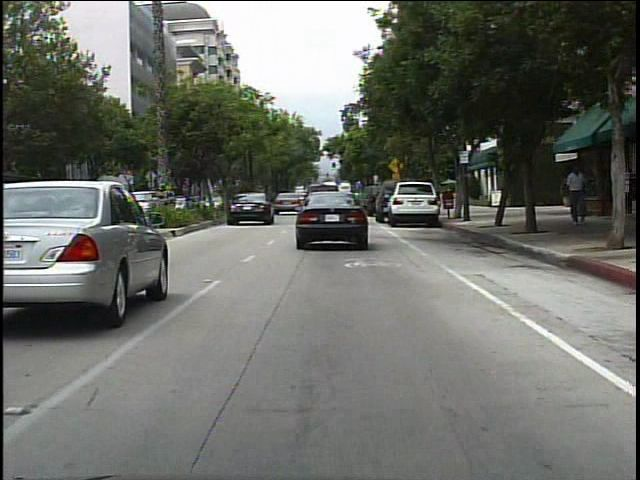person: (564, 162, 592, 230)
